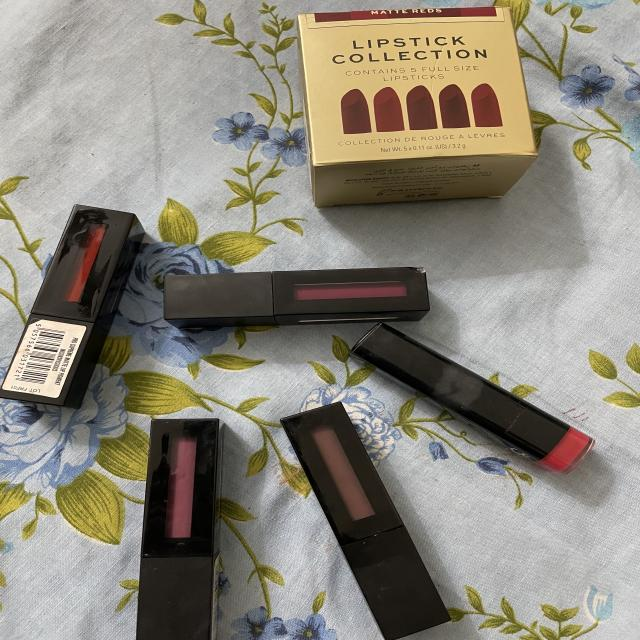lip gloss: (254, 395, 461, 640), (0, 186, 157, 415), (99, 402, 240, 640), (146, 254, 448, 334)
lip stick: (338, 306, 606, 490)
